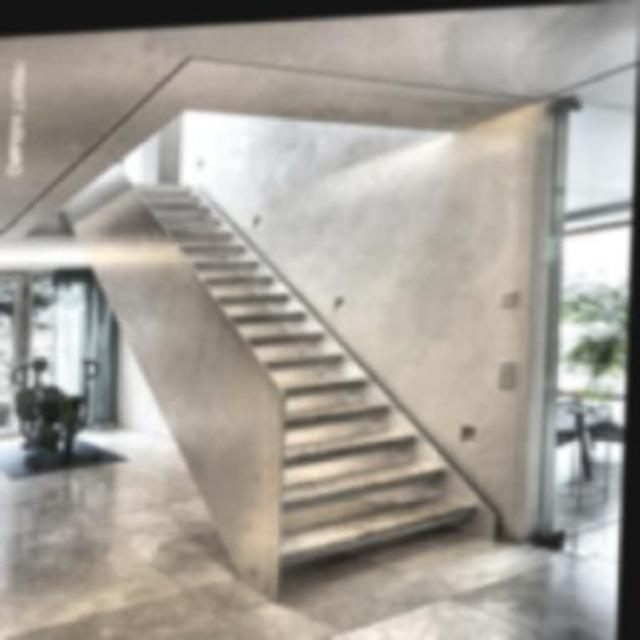stair: (183, 215, 525, 576)
